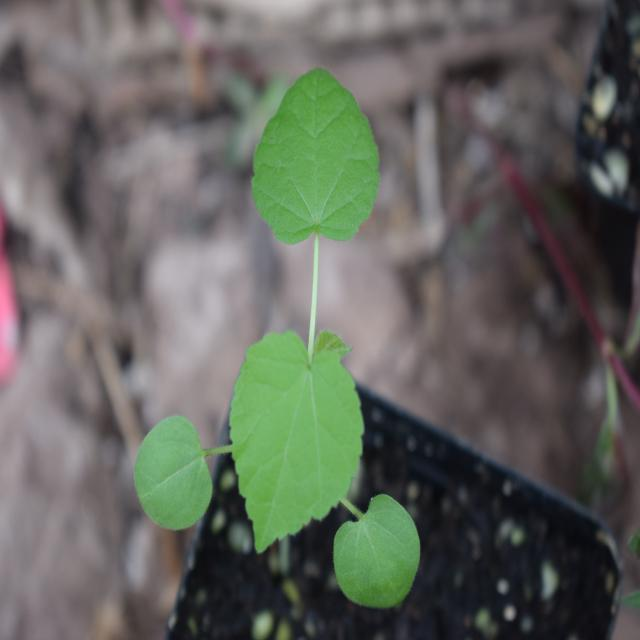abutilon theophrasti: (126, 66, 423, 622)
